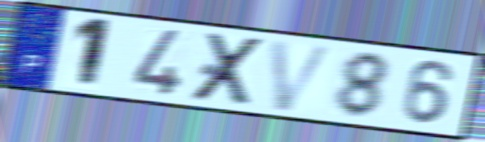1: (69, 16, 113, 93)
4: (128, 27, 185, 98)
6: (402, 59, 457, 126)
8: (334, 49, 392, 120)
V: (267, 38, 339, 114)
X: (187, 31, 270, 107)
